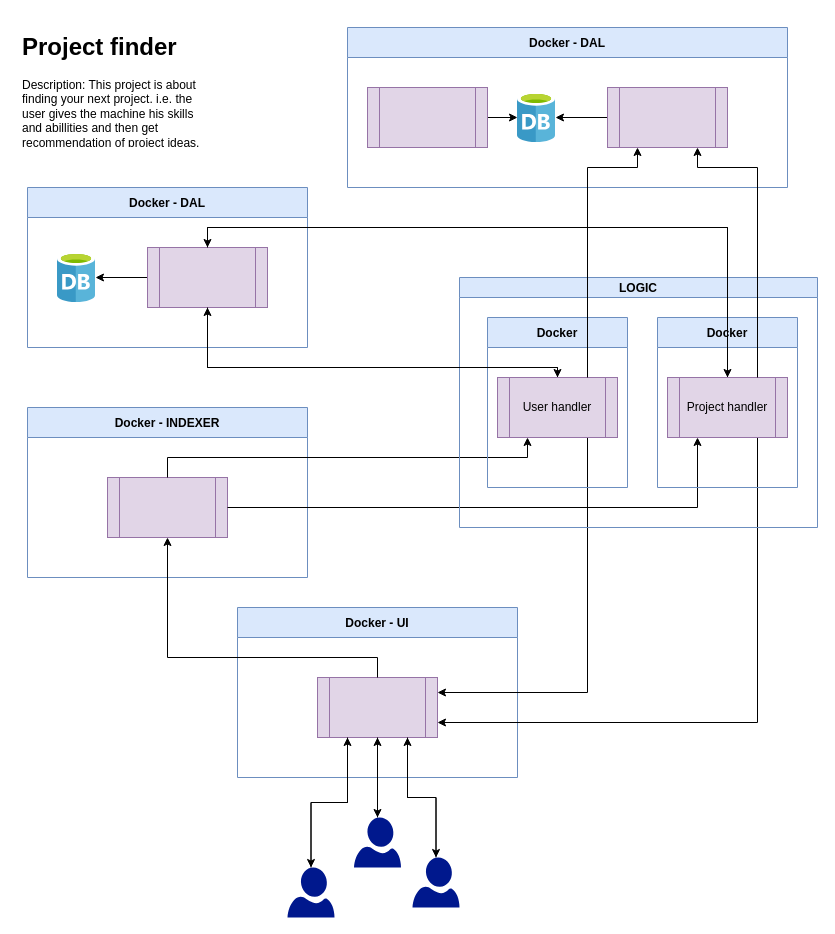
The diagram is 835 pixels wide and 934 high, and some of its shapes have lost their labels. The centre of each missing label's shape, as x and y in pixels:
"History cleaner" goes at (427,117).
"Indexer (load balance)" goes at (167,507).
"Logger access" goes at (667,117).
"Storage Access" goes at (207,277).
"UI query" goes at (377,707).
